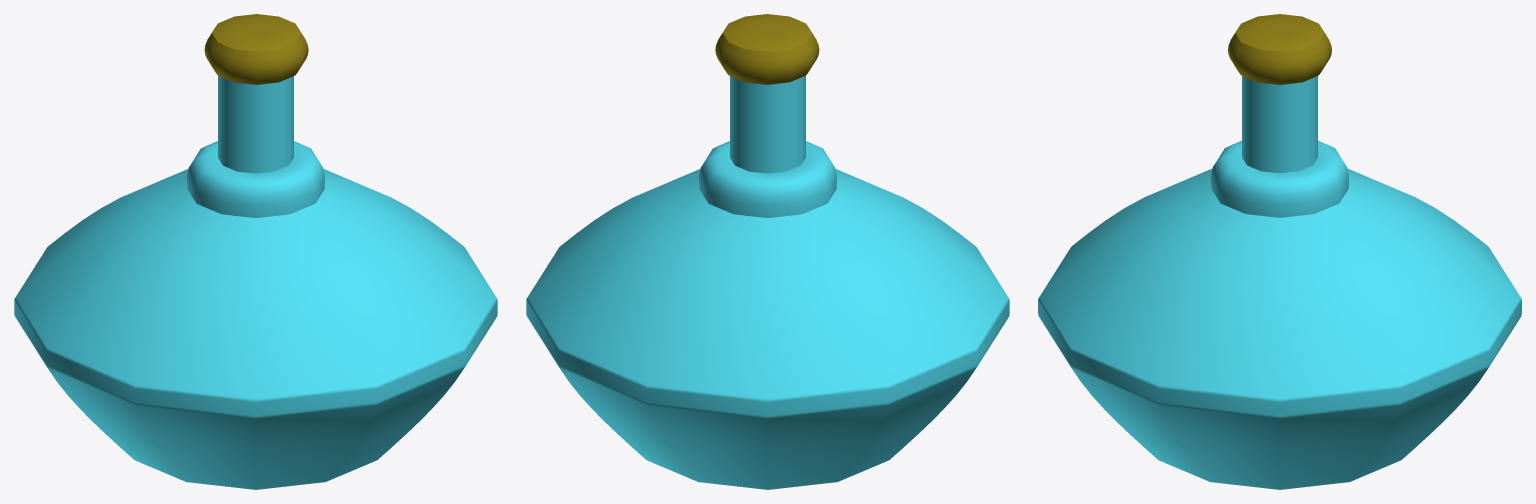
File: potion19.FBX
3 renders of one model, left to right at view 1: azimuth 30°, elevation 25°; view 2: azimuth 150°, elevation 25°; view 3: azimuth 270°, elevation 25°, orthographic.
Parts seen in each view (by area): view 1: potion_19glass; view 2: potion_19glass; view 3: potion_19glass.
Boxes of the visible parts, <box> form: potion_19glass: <box>14,14,497,489</box>; potion_19glass: <box>526,14,1009,489</box>; potion_19glass: <box>1038,14,1521,489</box>.
Size of the model in its own units: 48.04 by 44.15 by 48.04.
